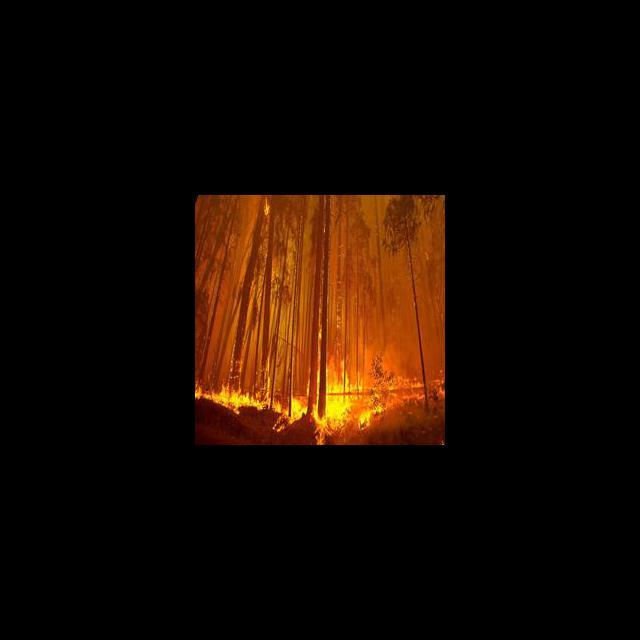Fire: (195, 352, 395, 445), (259, 198, 272, 220)
